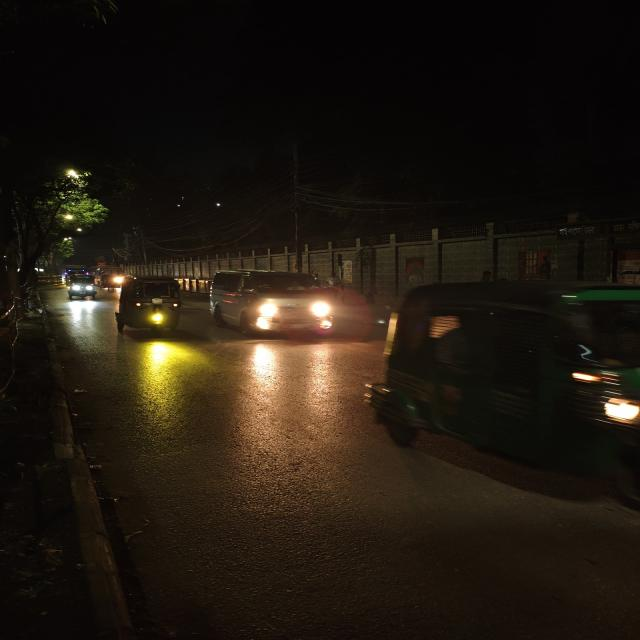car: (204, 269, 340, 342), (64, 268, 98, 300)
cng: (372, 274, 640, 514), (108, 275, 186, 339)
